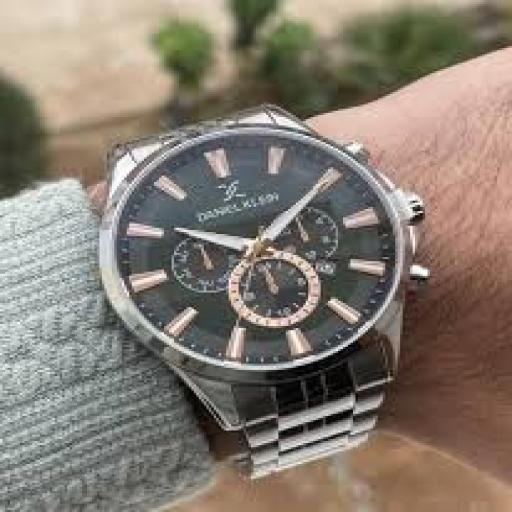KolSaati: (44, 75, 460, 482)
